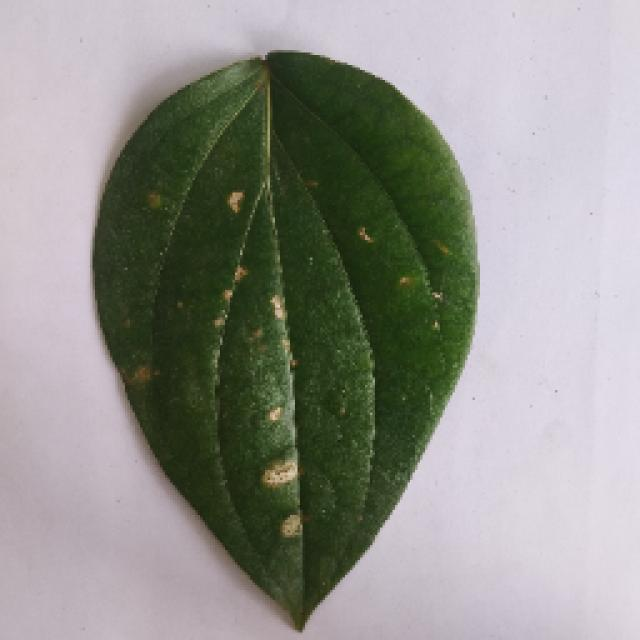pollu-disease: (73, 55, 505, 630)
